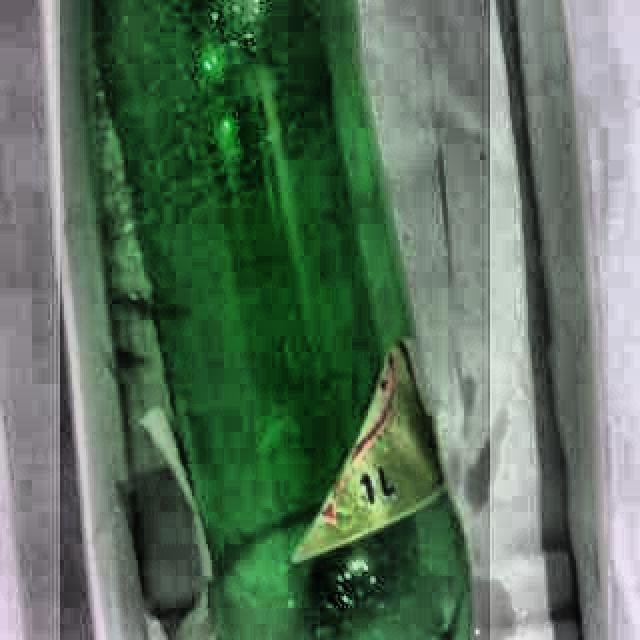plastic: (60, 0, 490, 640)
